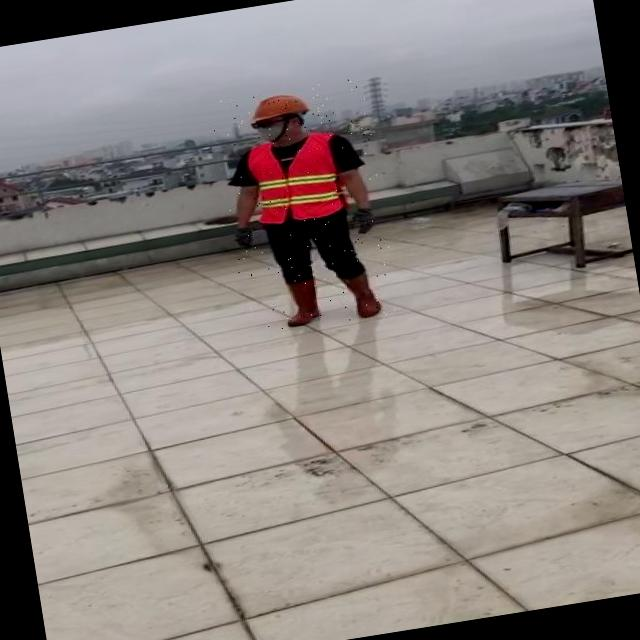boots: (338, 272, 388, 321), (278, 278, 324, 328)
gloves: (322, 186, 404, 254), (216, 206, 270, 266)
helmet: (247, 88, 314, 125)
vest: (244, 132, 346, 226)
